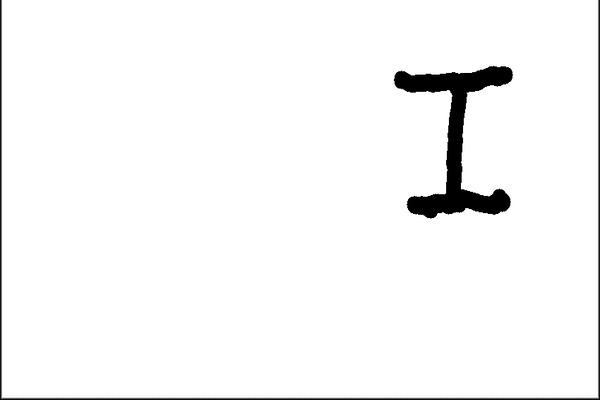i: (388, 63, 523, 225)
